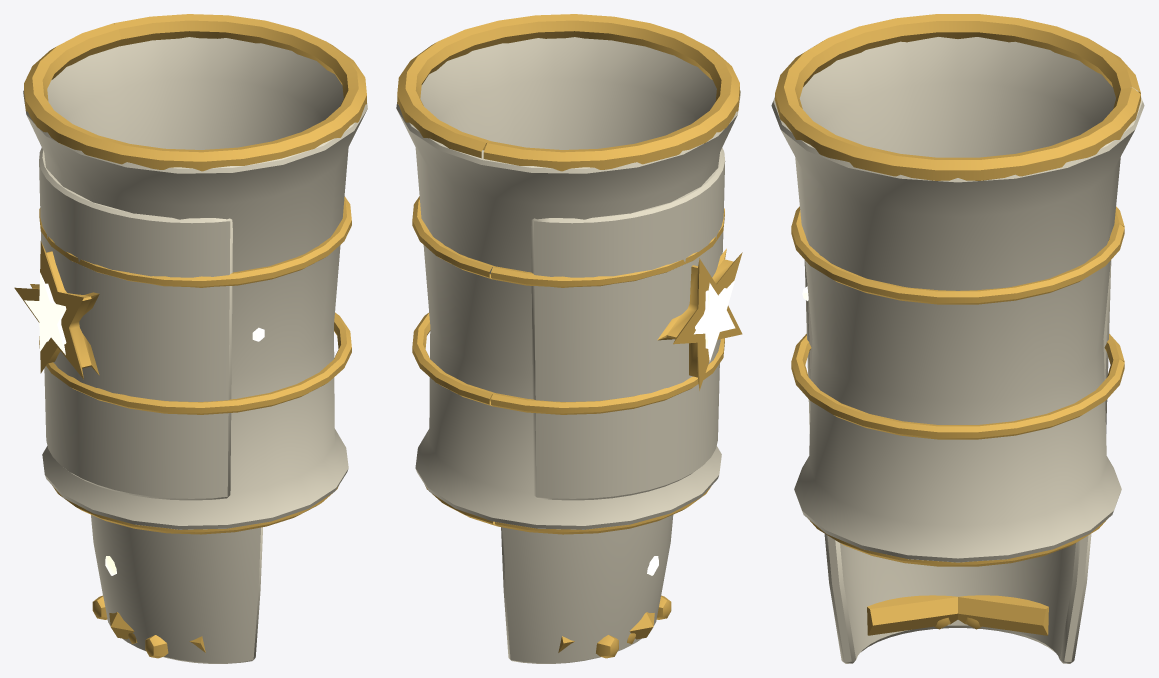
The model's file is asc_archon_crusader_gloves_R.glb.
3 renders of one model, left to right at view 1: azimuth 30°, elevation 25°; view 2: azimuth 150°, elevation 25°; view 3: azimuth 270°, elevation 25°, orthographic. The views are drawn at different scales.
Parts seen in each view (by area): view 1: asc_archon_crusader_gloves, AT_hand_R; view 2: asc_archon_crusader_gloves, AT_hand_R; view 3: asc_archon_crusader_gloves, AT_hand_R.
Boxes of the visible parts, x1=… form: asc_archon_crusader_gloves: x1=14, y1=14, x2=367, y2=534; AT_hand_R: x1=91, y1=515, x2=262, y2=663; asc_archon_crusader_gloves: x1=396, y1=14, x2=742, y2=534; AT_hand_R: x1=501, y1=515, x2=673, y2=663; asc_archon_crusader_gloves: x1=771, y1=14, x2=1144, y2=566; AT_hand_R: x1=824, y1=534, x2=1091, y2=663.
Size of the model in its own units: 0.1971 by 0.3408 by 0.2004.
